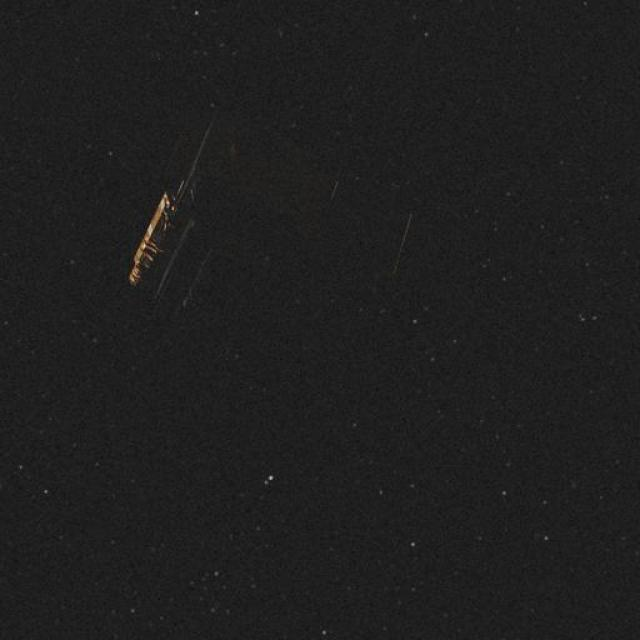soho: (126, 89, 392, 358)
